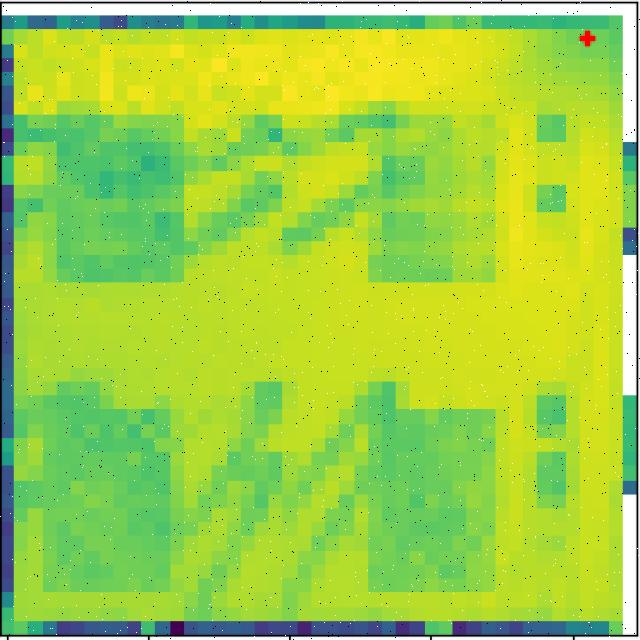Concrete: (56, 101, 186, 282)
Glass: (48, 401, 171, 594)
Metal: (369, 116, 496, 282)
Wood: (371, 409, 501, 593)
